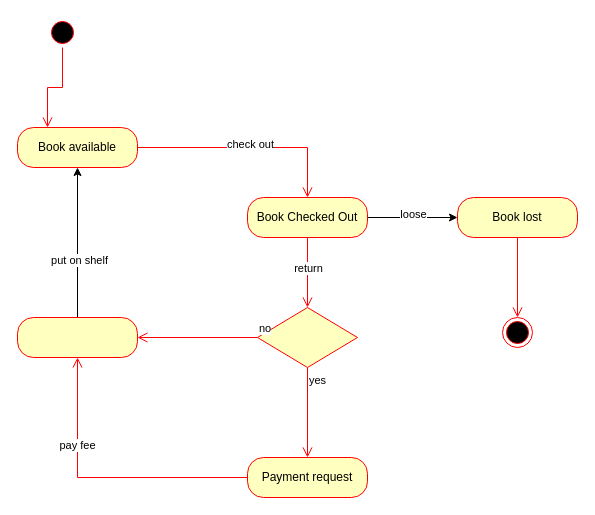
The diagram is 595 pixels wide and 515 high, and some of its shapes have lost their labels. The shapes that lost their labels are listed below. From the top down, each one's centre as x and y in pixels, then its label:
At pixel 77 337: "Book returned".
At pixel 307 337: "Is book overdue?".
